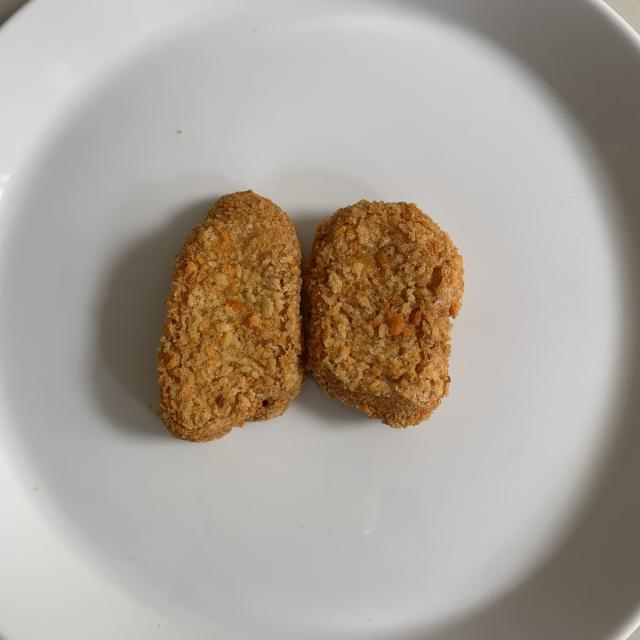Frango: (160, 193, 306, 440), (307, 195, 459, 428)
